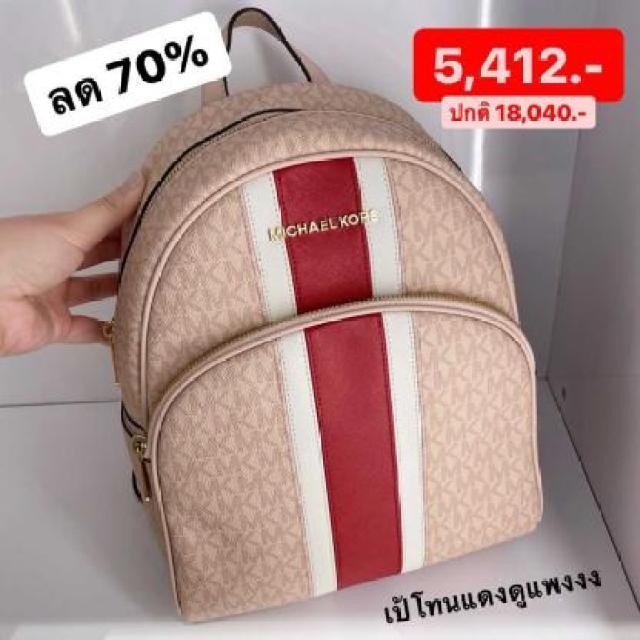Bag: (46, 0, 548, 640)
